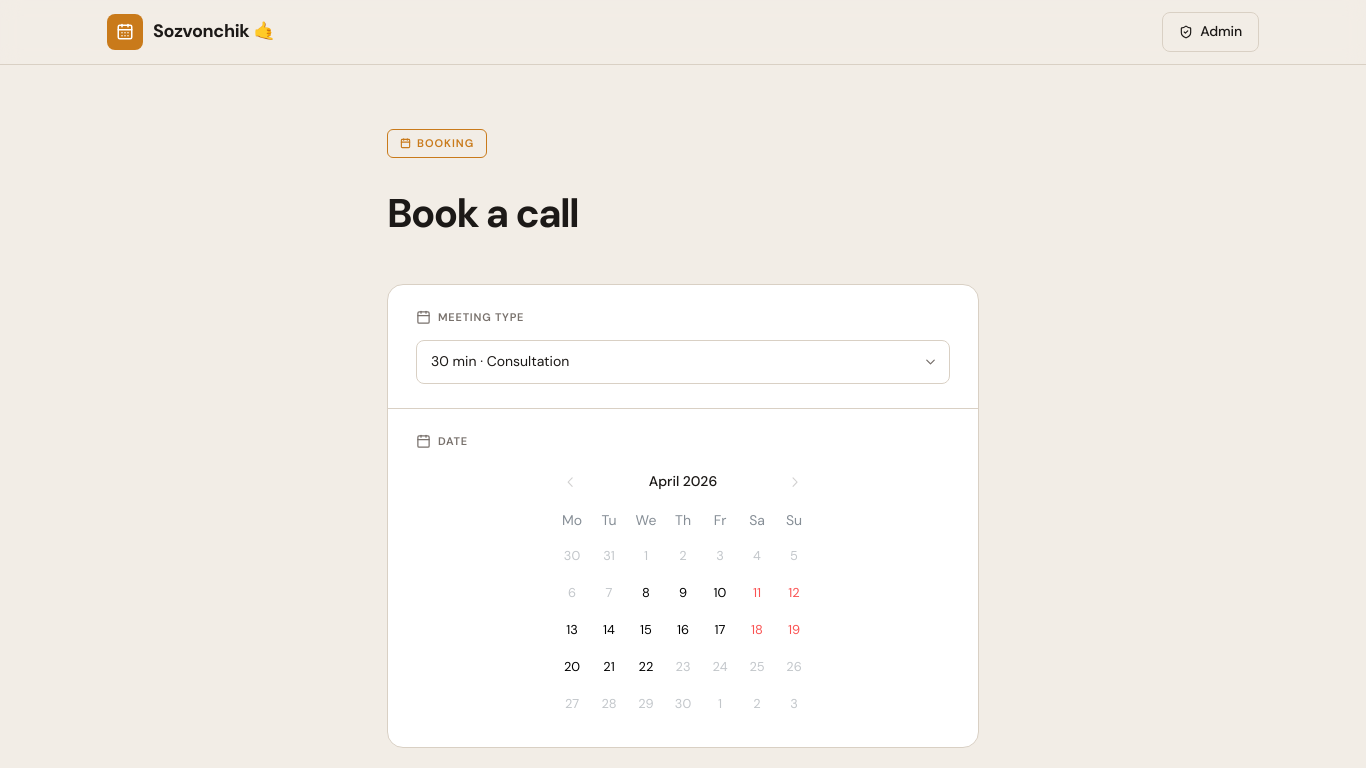
Test case: BookCallPage › form submission — 201 → shows confirmation screen
Expected: the dropdown with test id "event-type-select" is shown, [416,340,950,384]
Click the button "10" at (720, 593), box [702,575,738,611]
(page scrolled)
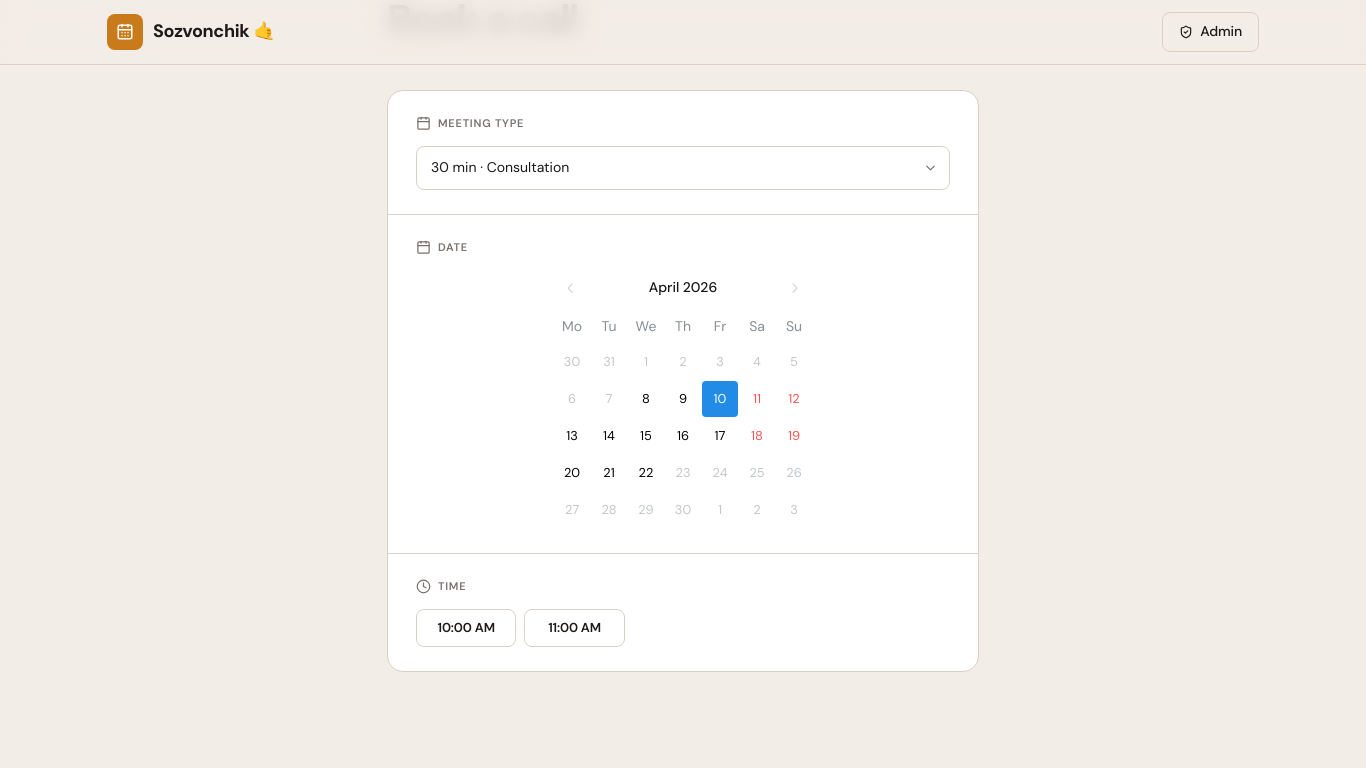
Expected: the element with test id "slots-grid" is shown, [416,609,625,647]
Click the button with test id "slot-2026-04-10T10:00:00.000Z" at (466, 628), box [416,609,516,647]
(page scrolled)
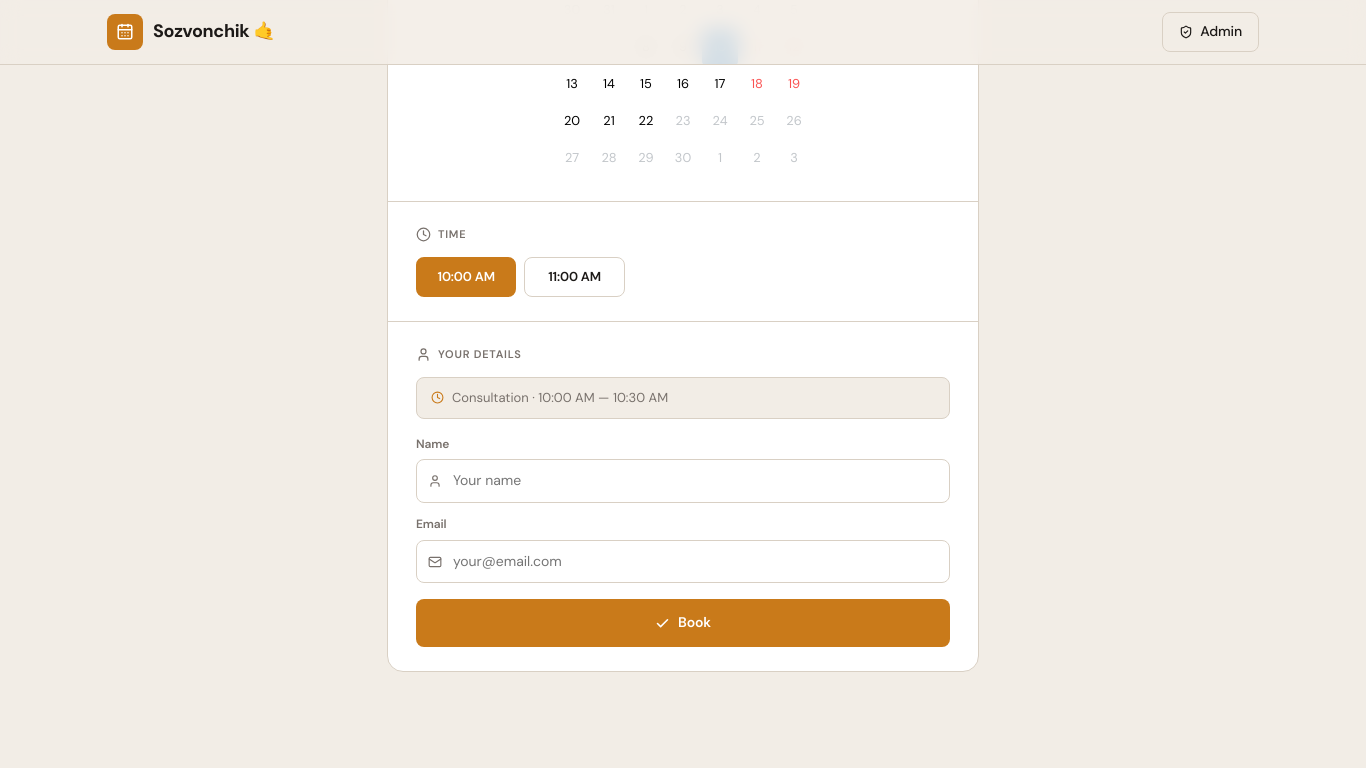
Type "Ivan Ivanov" into the field with test id "guest-name-input" at (683, 481), box [416,460,950,503]
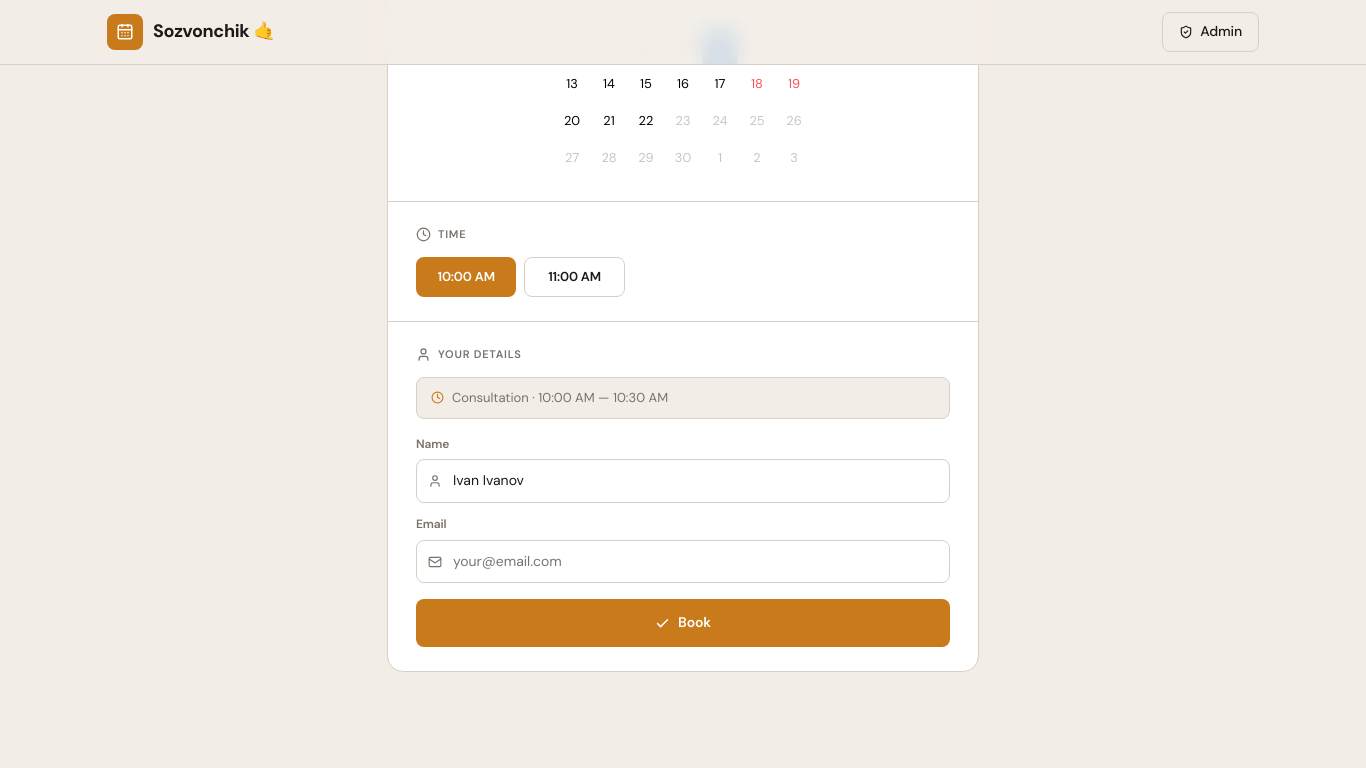
Type "ivan@example.com" into the field with test id "guest-email-input" at (683, 562), box [416,540,950,584]
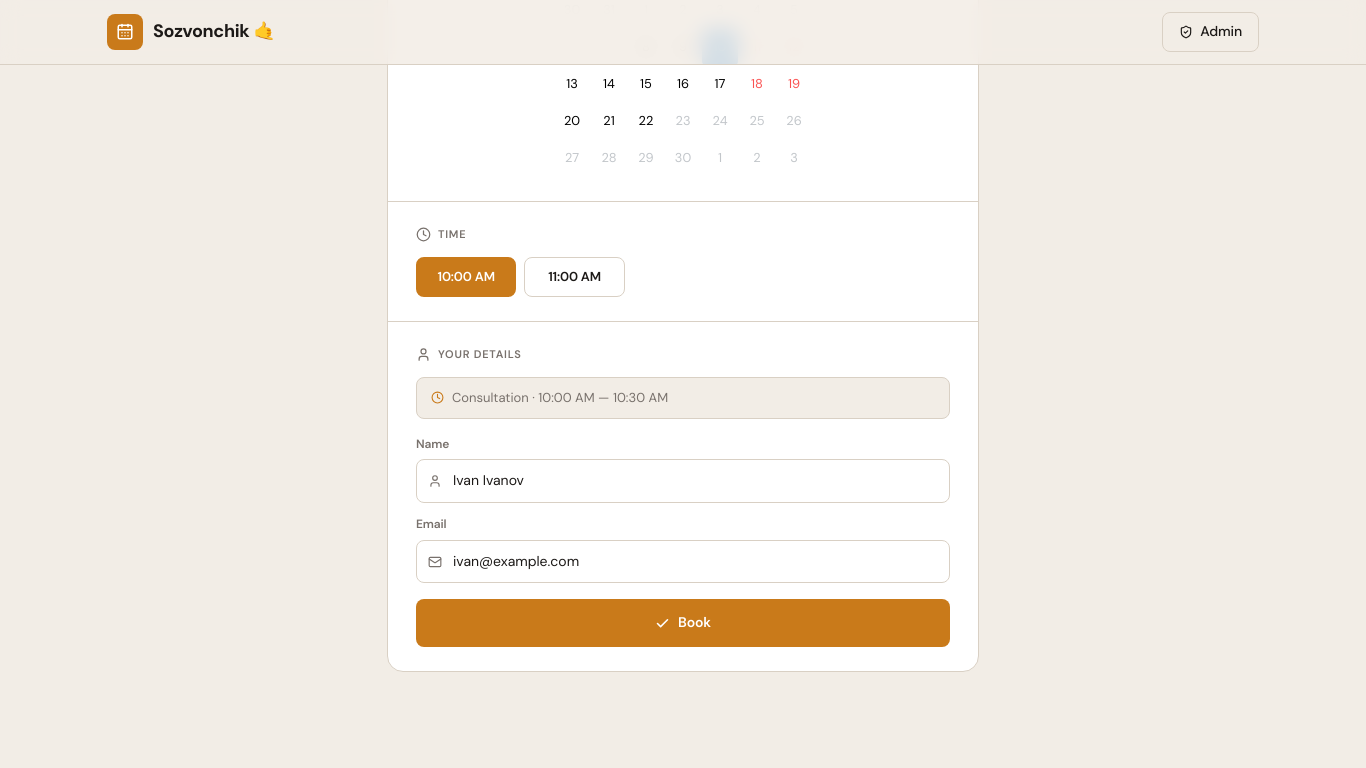
Click the button with test id "submit-button" at (683, 623), box [416,600,950,647]
(page scrolled)
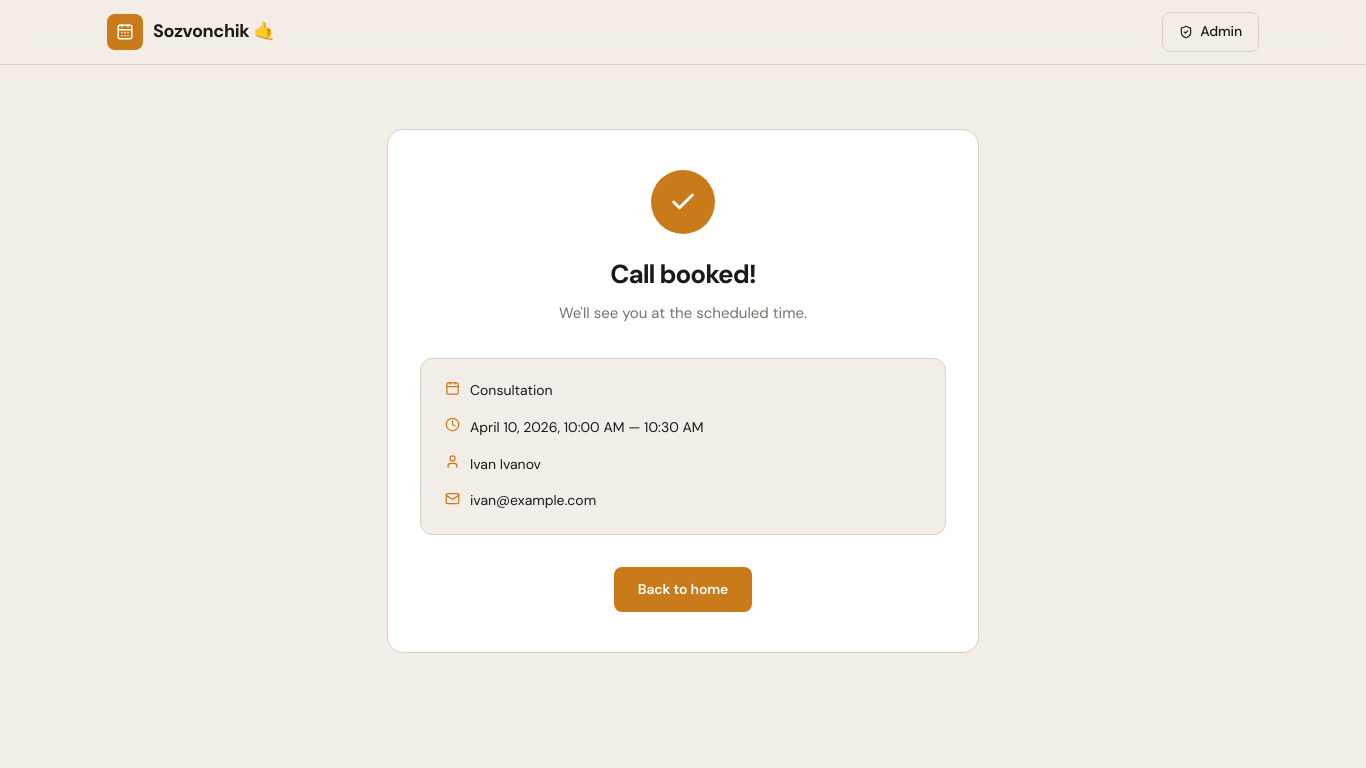
Expected: the element with test id "booking-confirmation" is shown, [387,129,979,653]
Expected: the heading "Call booked!" is shown, [610,257,756,291]
Expected: the text "Ivan Ivanov" is shown, [470,454,541,475]
